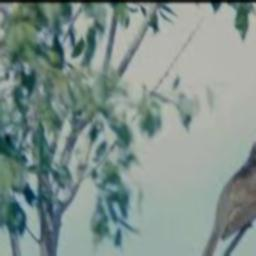Cuckoo: (194, 136, 256, 256)
